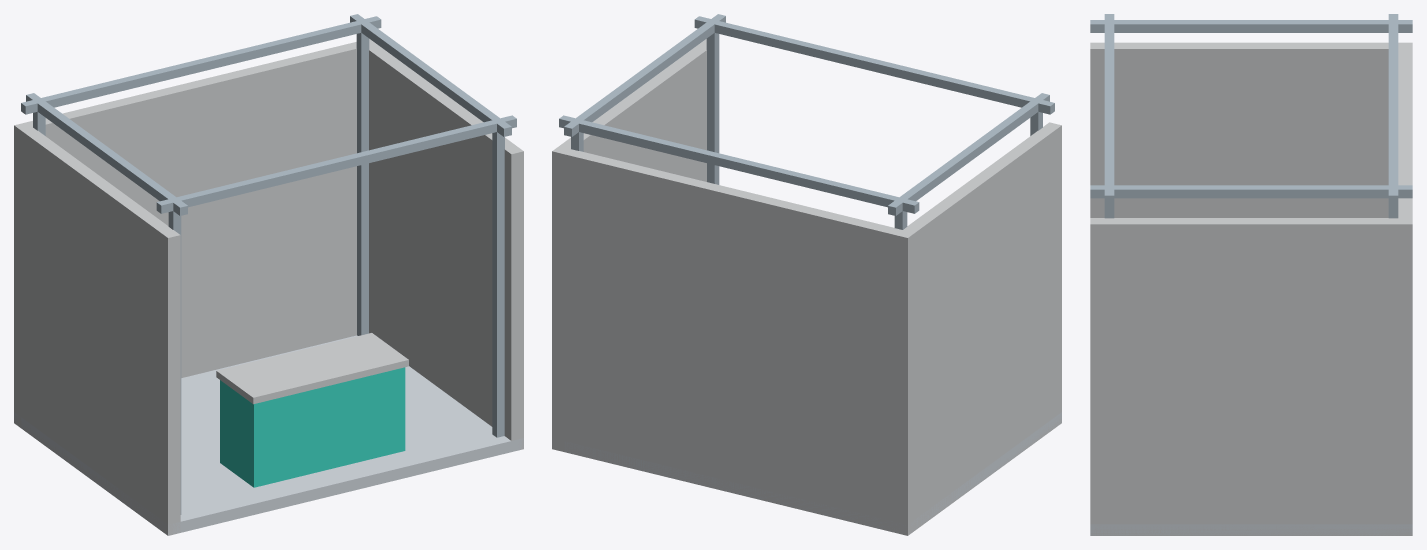
The picture shows the model from 3 angles, left to right: view 1: azimuth 30°, elevation 25°; view 2: azimuth 150°, elevation 25°; view 3: azimuth 270°, elevation 25°; orthographic projection. The views are drawn at different scales.
Visible parts, largest first — view 1: Exhibition Booth Concept; view 2: Exhibition Booth Concept; view 3: Exhibition Booth Concept.
Boxes of the visible parts, box(x1,y1,x2,y2) form: Exhibition Booth Concept: box(14, 14, 523, 535); Exhibition Booth Concept: box(552, 14, 1061, 535); Exhibition Booth Concept: box(1090, 14, 1412, 535).
Bounding box in the file's own units: 4 × 3.49 × 3.
